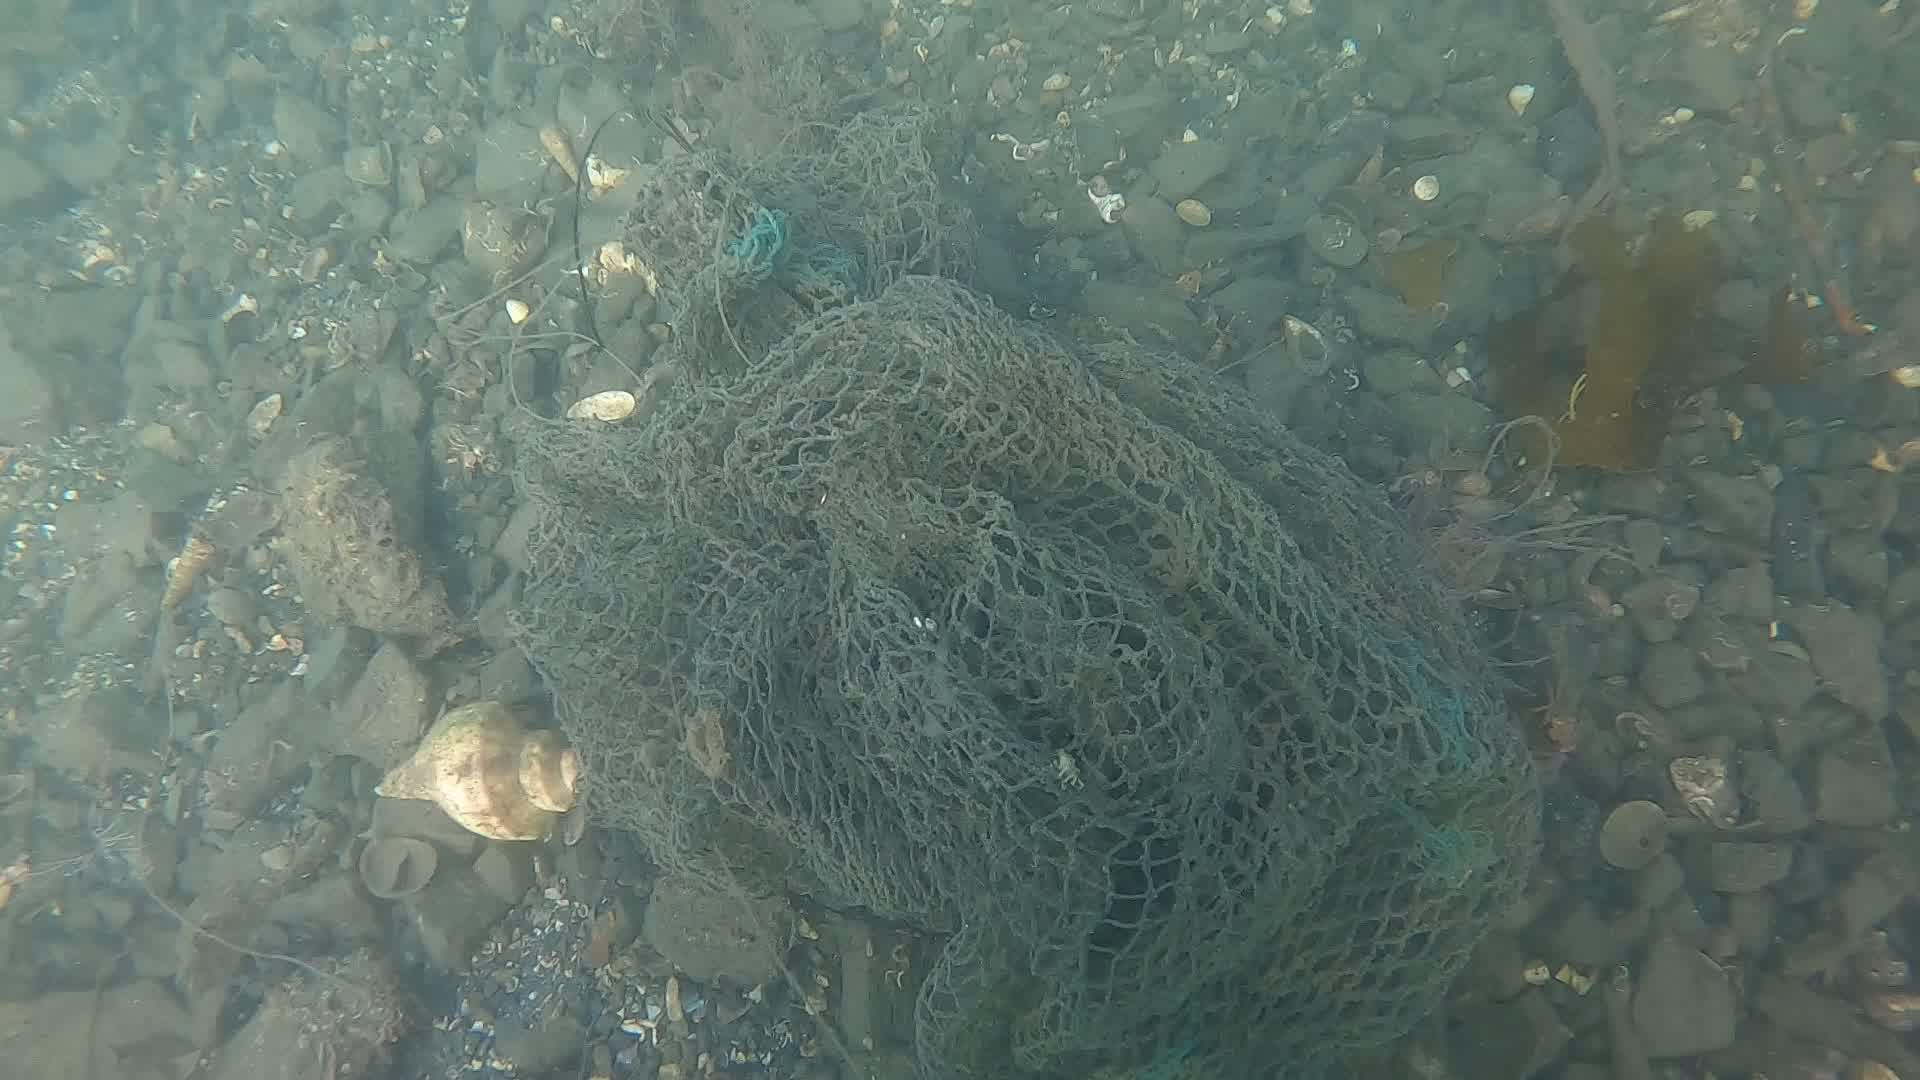fish net: (513, 148, 1524, 1080)
